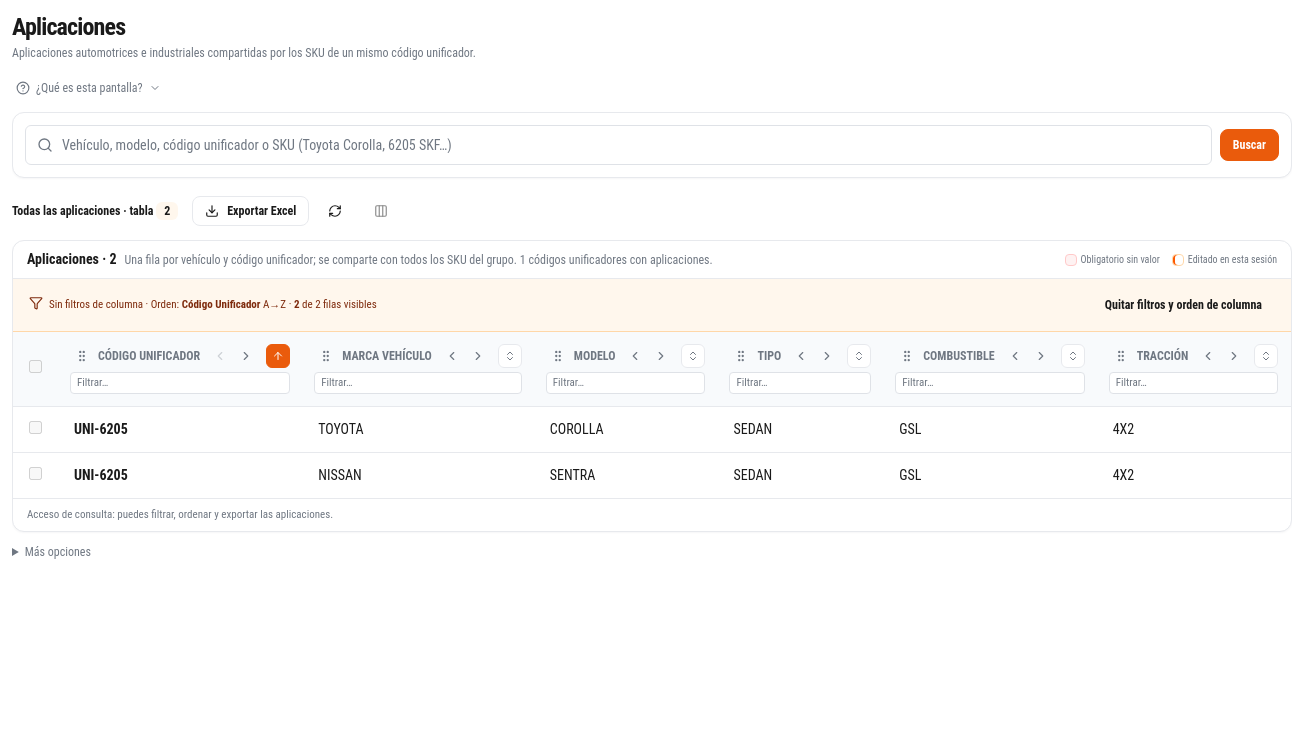
it: applications reference layout › reports an incomplete product lookup as an error and allows retry without exporting partial rows
Replace the text in the search field named "Buscar aplicaciones" with "SKU-SKF". click: (618, 144)
box: [25,124,1212,164]
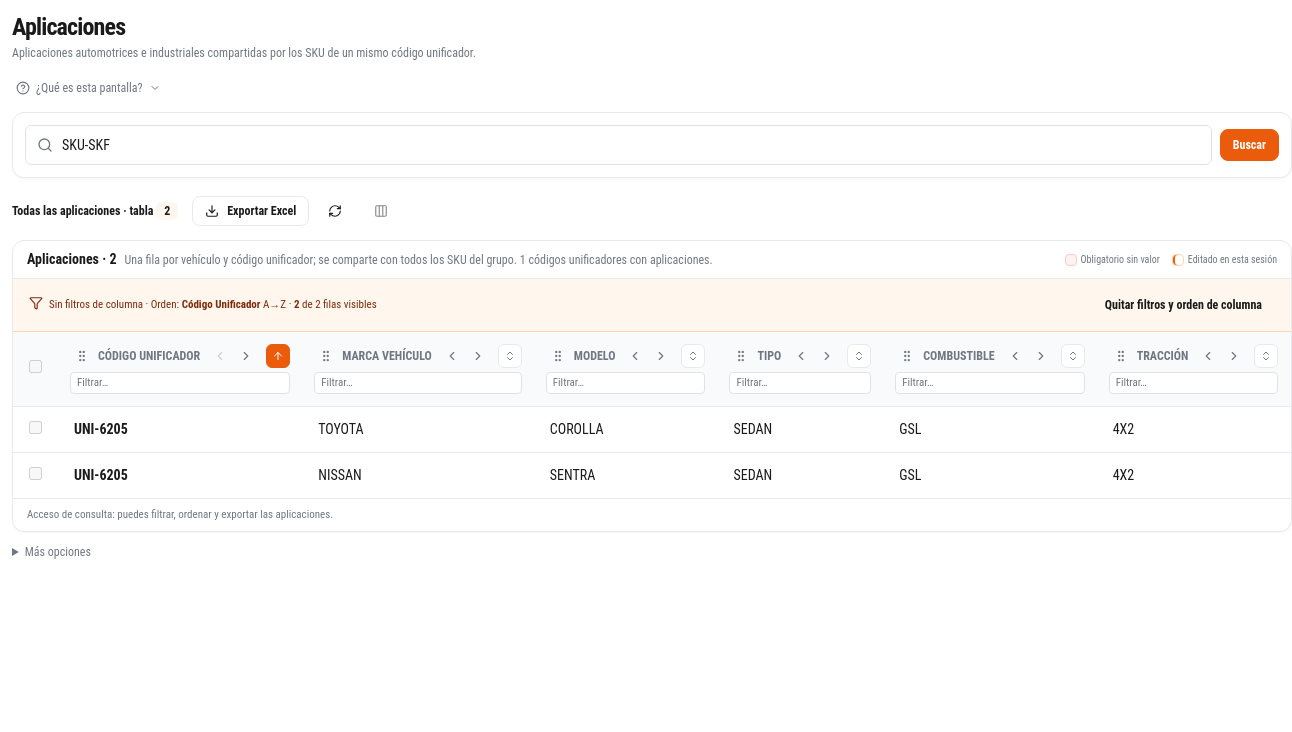
Click the button "Buscar". click: (1249, 144)
box: [1220,128,1279,160]
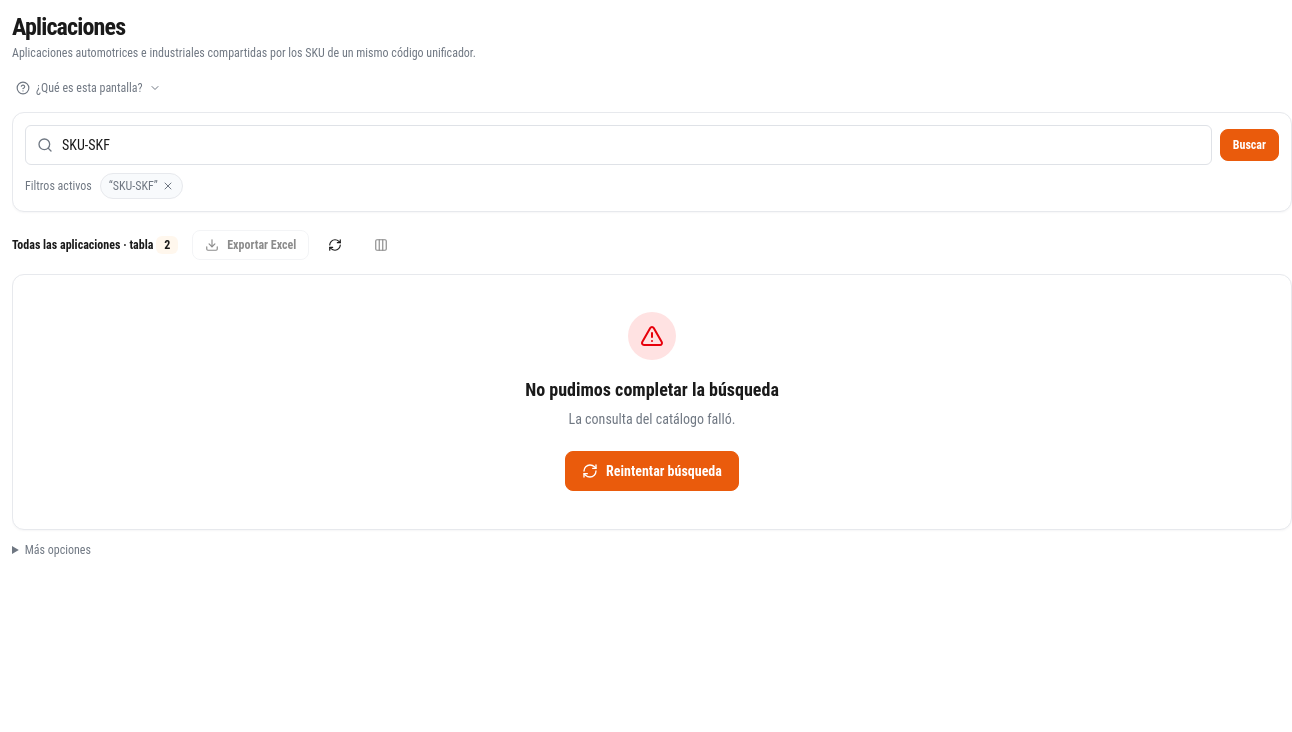
Result: the heading "No pudimos completar la búsqueda" is shown at [525,376,779,404]
Result: the button "Exportar Excel" is disabled at [192,230,309,260]
Click the button "Reintentar búsqueda". click: (652, 471)
box: [565,451,739,491]
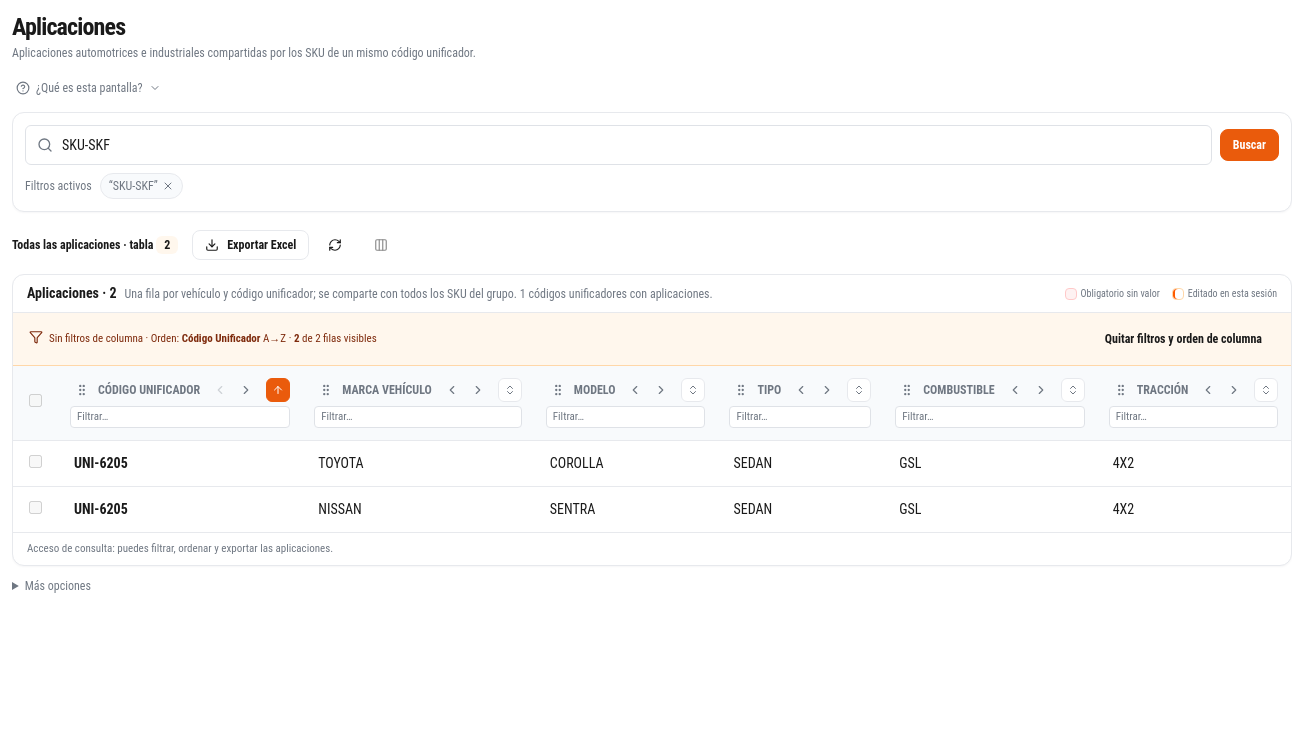
Result: the text "TOYOTA" is shown at [302,440,534,486]
